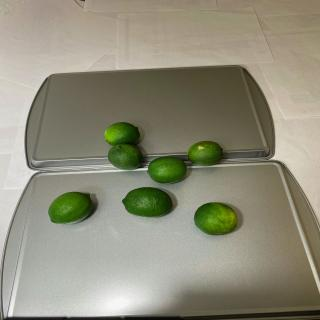Lemon: (122, 187, 173, 217), (193, 202, 238, 235), (48, 192, 93, 224), (147, 156, 187, 184), (108, 143, 143, 171), (187, 140, 223, 166), (104, 122, 140, 146)
